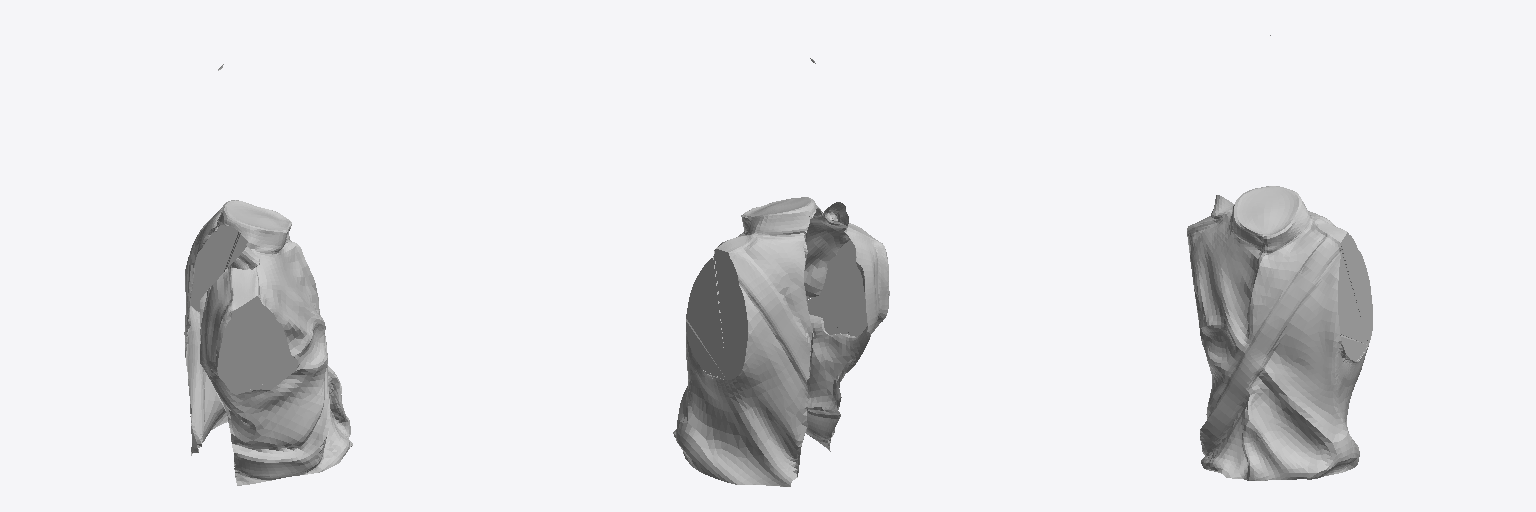
The model's file is torse_dos_nu.obj.
3 renders of one model, left to right at view 1: azimuth 30°, elevation 25°; view 2: azimuth 150°, elevation 25°; view 3: azimuth 270°, elevation 25°, orthographic.
Visible parts, largest first — view 1: 15548_French_Horseman_v1.001, 15548_French_Horseman_v1.002, 15548_French_Horseman_v1.022_15548_French_Horseman_v1.039; view 2: 15548_French_Horseman_v1.001, 15548_French_Horseman_v1.002, 15548_French_Horseman_v1.022_15548_French_Horseman_v1.039; view 3: 15548_French_Horseman_v1.001, 15548_French_Horseman_v1.002.
Part boxes in pixels (bbox=[...]): 15548_French_Horseman_v1.001: bbox=[184, 64, 352, 481]; 15548_French_Horseman_v1.002: bbox=[191, 225, 247, 311]; 15548_French_Horseman_v1.022_15548_French_Horseman_v1.039: bbox=[227, 415, 263, 485]; 15548_French_Horseman_v1.001: bbox=[673, 58, 889, 486]; 15548_French_Horseman_v1.002: bbox=[686, 249, 747, 380]; 15548_French_Horseman_v1.022_15548_French_Horseman_v1.039: bbox=[816, 385, 841, 451]; 15548_French_Horseman_v1.001: bbox=[1187, 35, 1368, 480]; 15548_French_Horseman_v1.002: bbox=[1338, 232, 1372, 361].
Size of the model in its own units: 1.56 by 3.8 by 1.57.